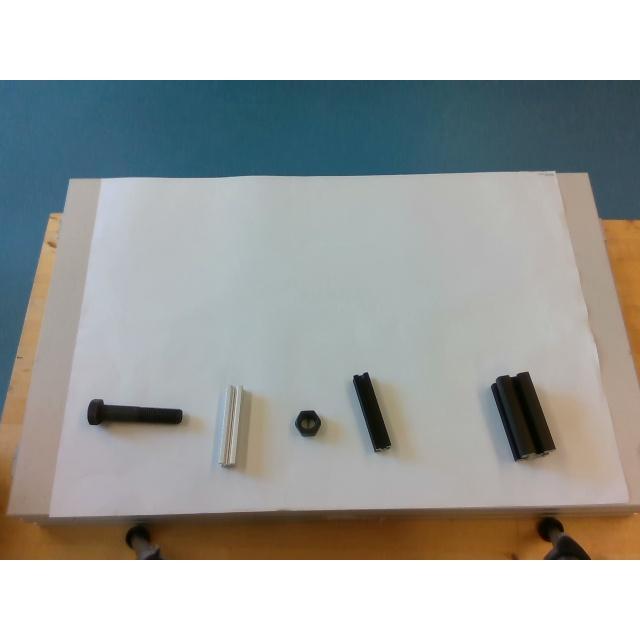F20_20_B: (354, 372, 391, 452)
F20_20_G: (220, 386, 242, 466)
M20: (295, 410, 321, 436)
M20_100: (86, 400, 182, 424)
S40_40_B: (491, 372, 554, 460)
